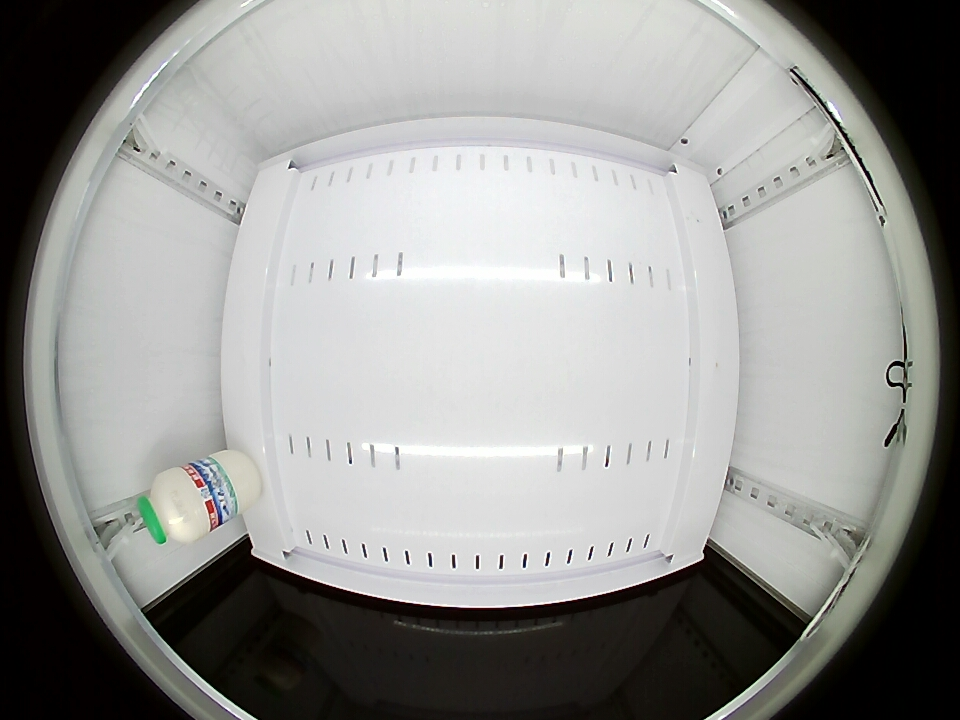liziyuan: (137, 464, 216, 545)
